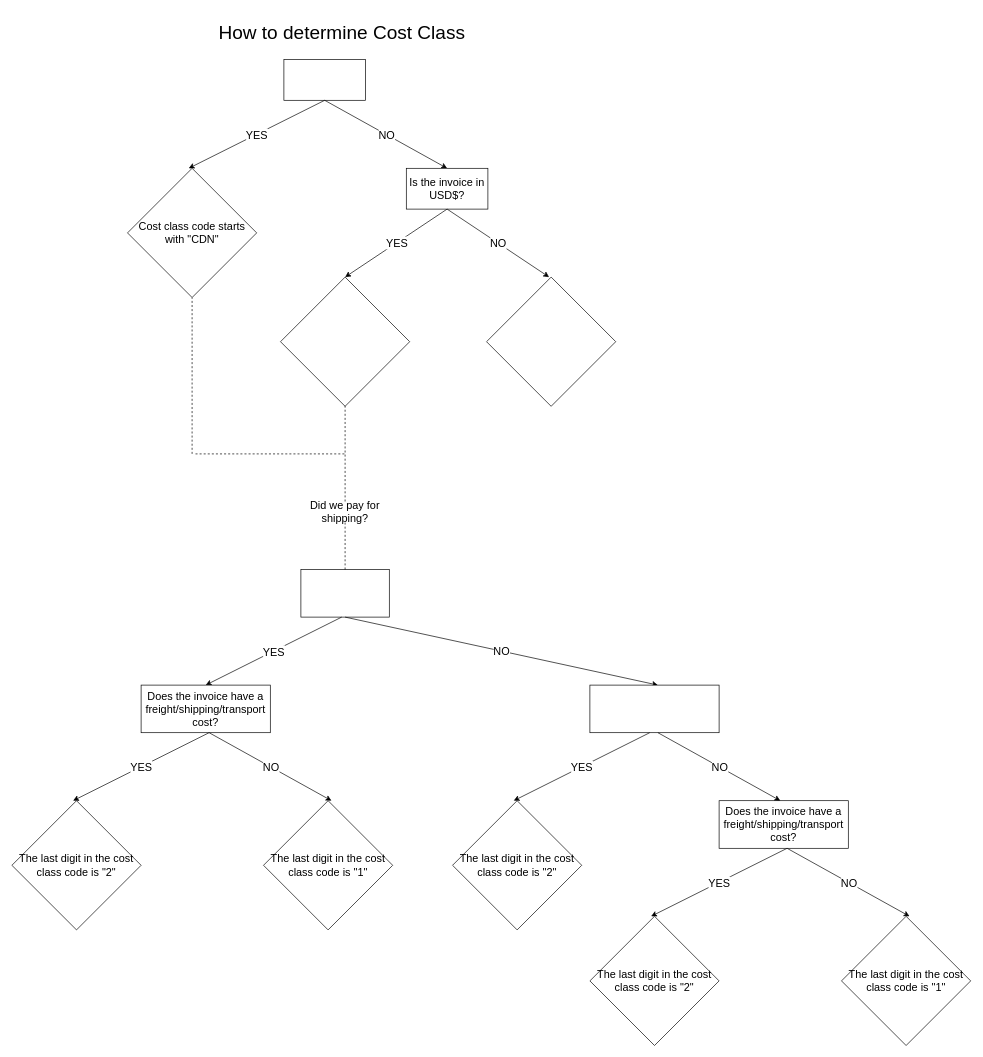
This 983x1057 diagram has some shape labels left out. Here are the shapes that lost their labels. From the top down, the centre of each, then its label:
the point at 324,79: Is the invoice in CAD$?
the point at 345,341: Cost class code starts with "US"
the point at 551,341: Ask accountants how they would like it received
the point at 344,593: Is the item for the Computer store?
the point at 654,708: Was the shipment delivered by Day & Ross, Purolator or UPS?
